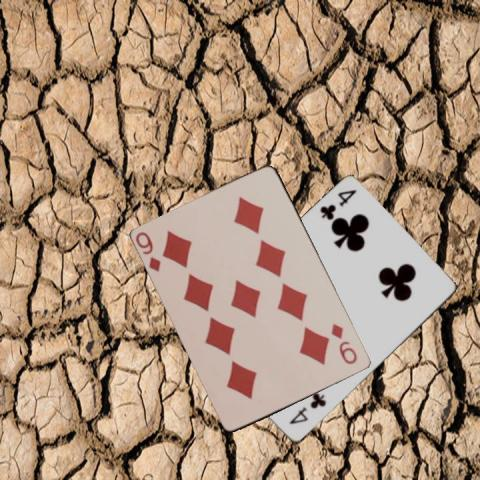4c: (287, 390, 327, 426), (317, 187, 358, 222)
9d: (328, 321, 359, 366), (132, 229, 162, 274)
